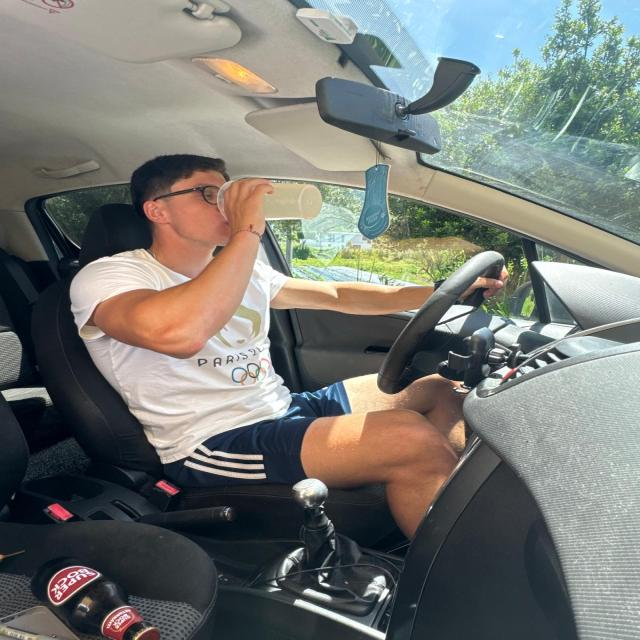Drinking: (209, 164, 347, 244)
